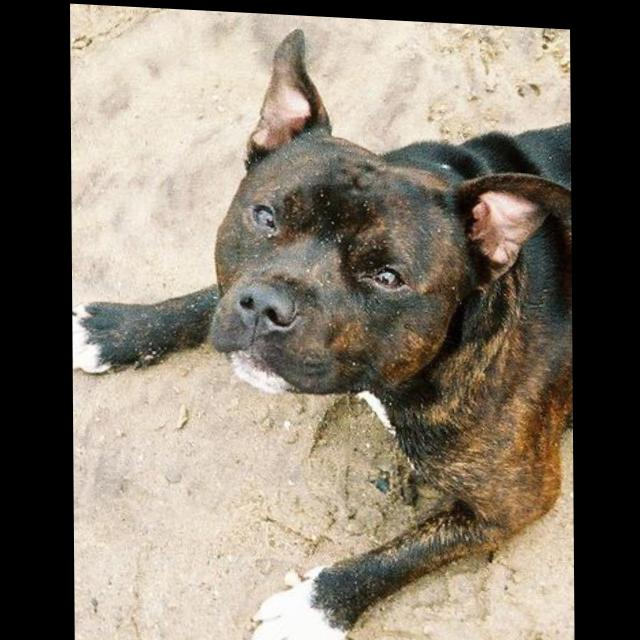staffford: (71, 14, 575, 640)
